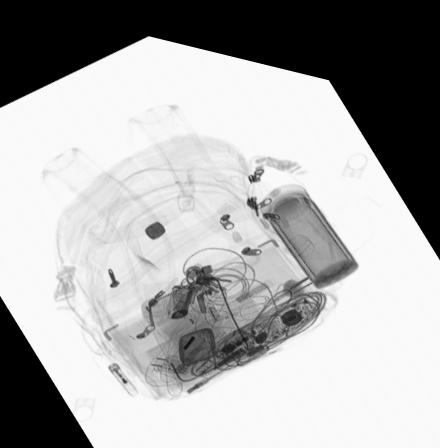Lighter: (106, 354, 142, 392)
